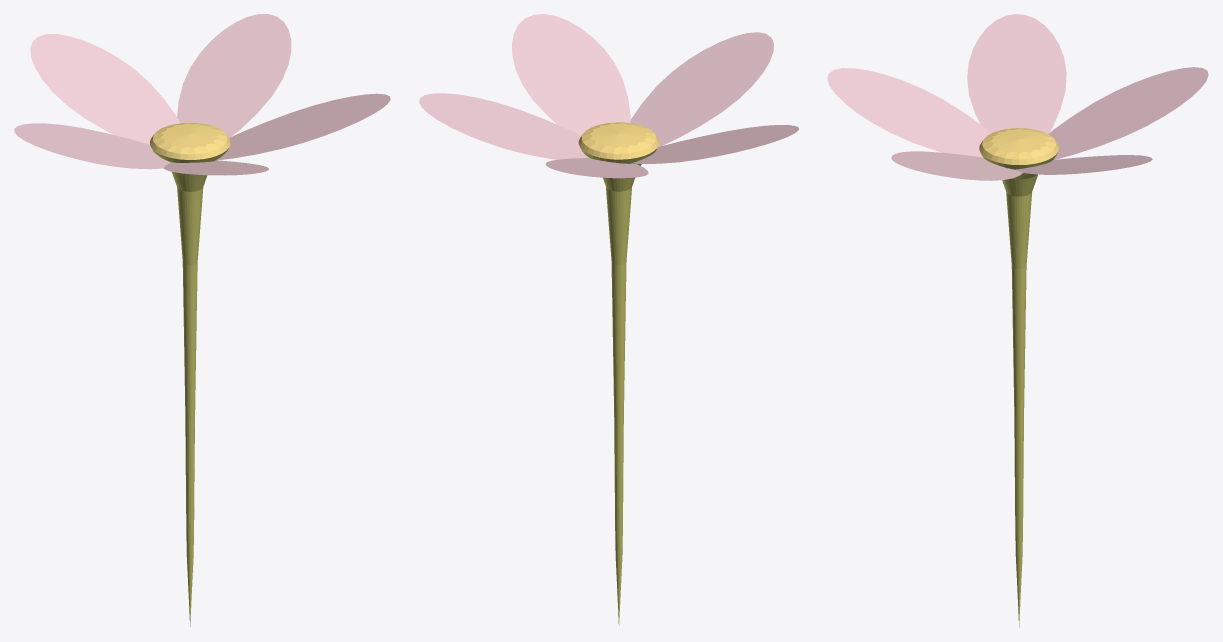
File: flower1_v2.fbx
3 views of the same model, side by side, from view 1: azimuth 30°, elevation 25°; view 2: azimuth 150°, elevation 25°; view 3: azimuth 270°, elevation 25° (orthographic).
Visible parts, largest first — view 1: Circle.001; view 2: Circle.001; view 3: Circle.001.
Part boxes in pixels (<box>): Circle.001: <box>14,14,390,626</box>; Circle.001: <box>419,14,798,624</box>; Circle.001: <box>827,14,1208,627</box>.
Bounding box in the file's own units: 343 × 545 × 355.
